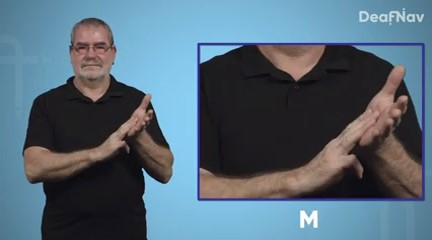M: (293, 63, 412, 197), (101, 92, 157, 160)
